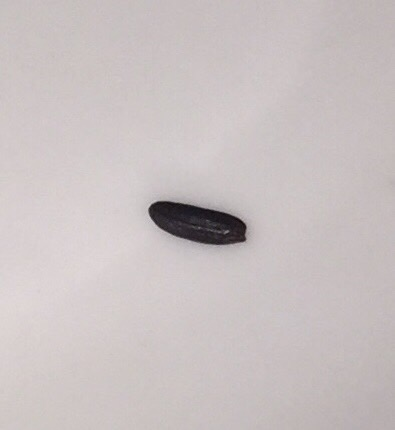Gao Nep Cam: (143, 182, 254, 253)
